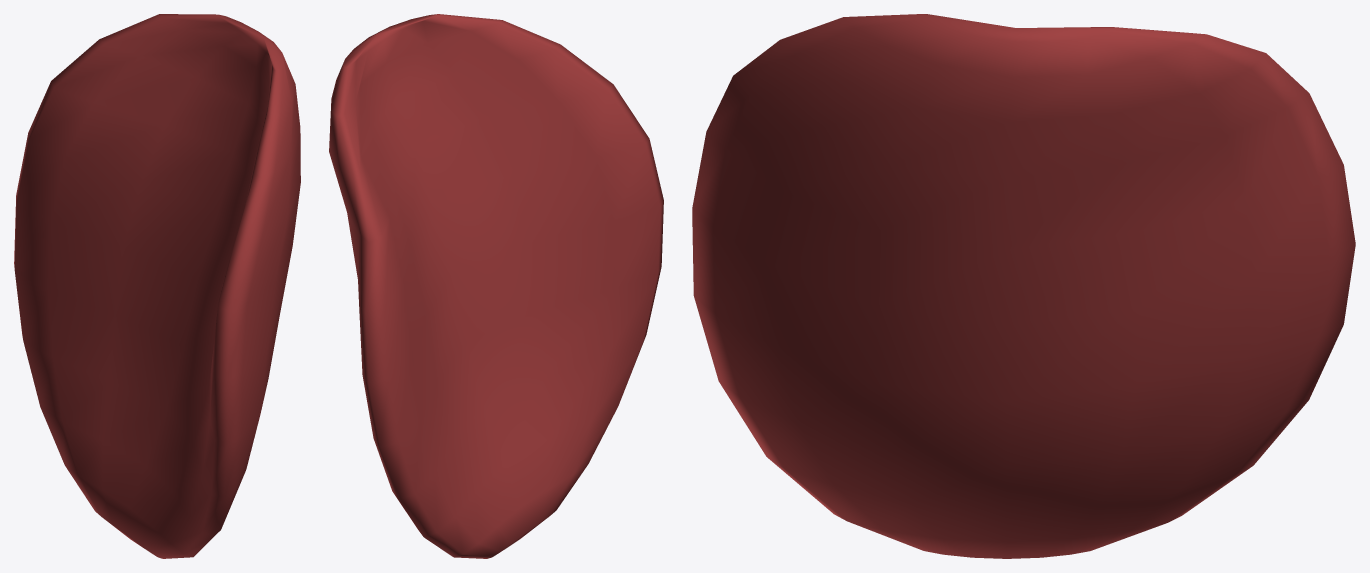
The model's file is subcutaneous-trochanteric-bursa-l.glb.
3 views of the same model, side by side, from view 1: azimuth 30°, elevation 25°; view 2: azimuth 150°, elevation 25°; view 3: azimuth 270°, elevation 25° (orthographic). The views are drawn at different scales.
Visible parts, largest first — view 1: Subcutaneous trochanteric bursa.l; view 2: Subcutaneous trochanteric bursa.l; view 3: Subcutaneous trochanteric bursa.l.
Boxes of the visible parts, x1,y1,x2,y2 form: Subcutaneous trochanteric bursa.l: (14,14,300,558); Subcutaneous trochanteric bursa.l: (329,14,663,558); Subcutaneous trochanteric bursa.l: (692,14,1355,558).
Size of the model in its own units: 0.012 by 0.0295 by 0.0288.
